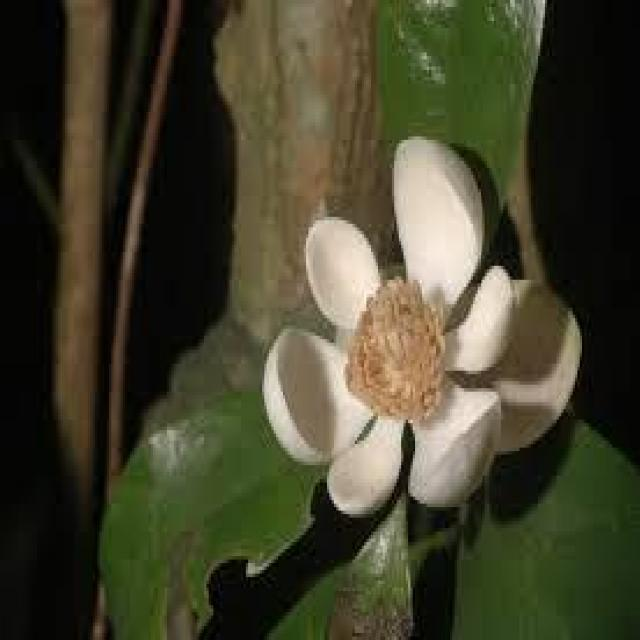organic waste: (269, 133, 584, 486)
